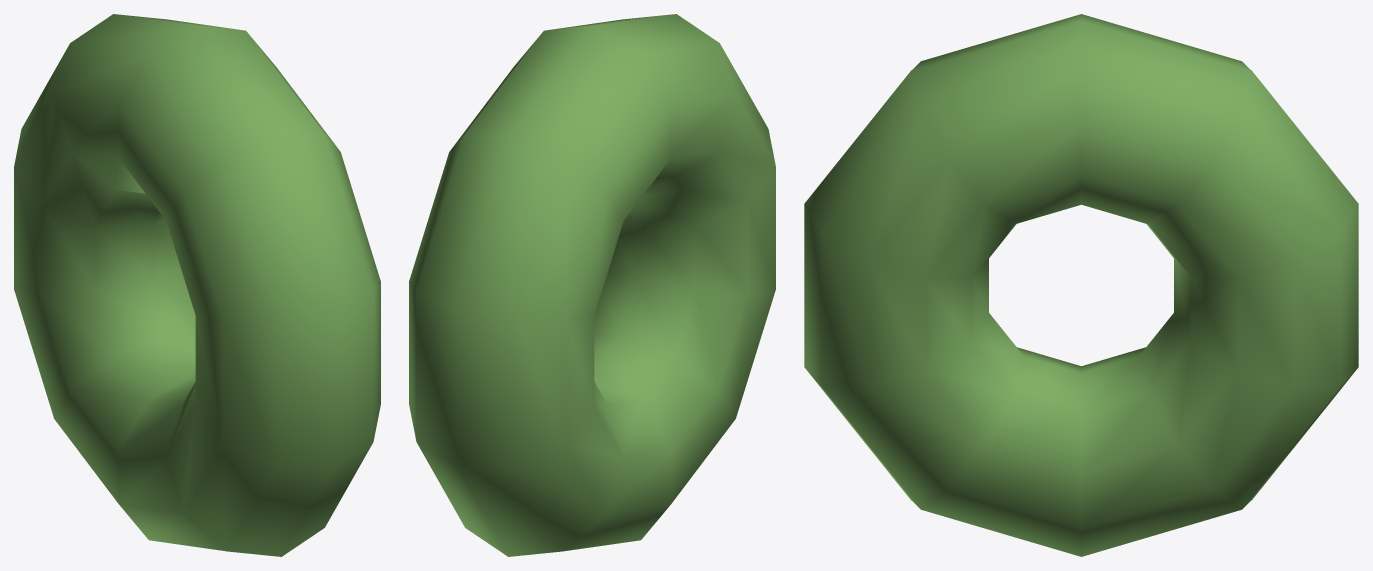
The model's file is exitPoint.fbx.
3 renders of one model, left to right at view 1: azimuth 30°, elevation 25°; view 2: azimuth 150°, elevation 25°; view 3: azimuth 270°, elevation 25°, orthographic.
Parts seen in each view (by area): view 1: exitPoint; view 2: exitPoint; view 3: exitPoint.
Boxes of the visible parts, x1,y1,x2,y2 form: exitPoint: (14, 14, 380, 556); exitPoint: (409, 14, 775, 556); exitPoint: (804, 14, 1358, 556).
Bounding box in the file's own units: 59.16 × 187 × 177.
